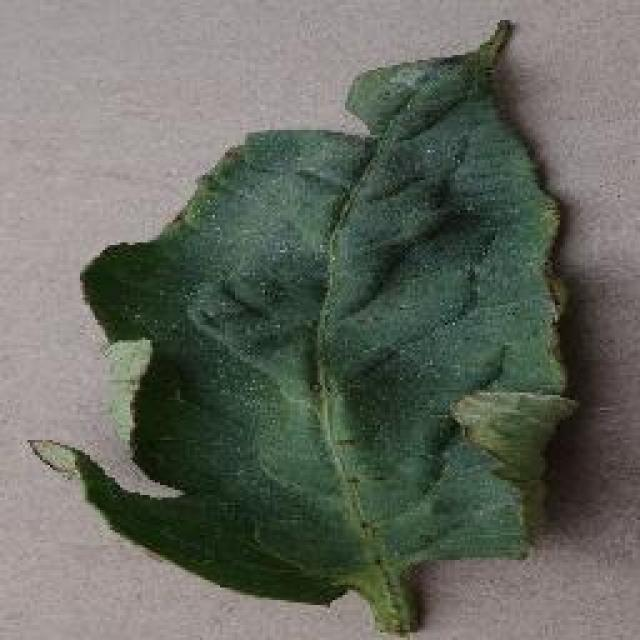Tomato bacterial spot leaf: (18, 14, 590, 640)
